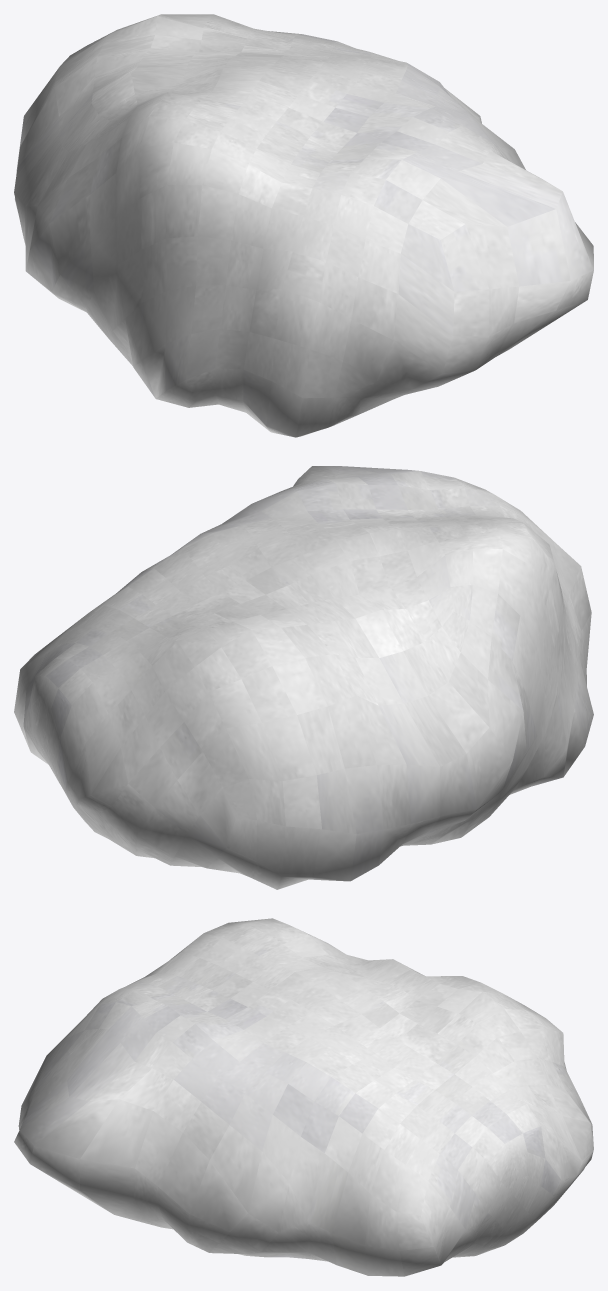
Rendered from MayCao.fbx.
3 renders of one model, top to bottom at view 1: azimuth 30°, elevation 25°; view 2: azimuth 150°, elevation 25°; view 3: azimuth 270°, elevation 25°, orthographic. The views are drawn at different scales.
Parts seen in each view (by area): view 1: MayCao; view 2: MayCao; view 3: MayCao.
Part boxes in pixels (x1,y1,x2,y2): MayCao: (14,14,593,437); MayCao: (14,466,593,889); MayCao: (14,918,593,1276).
Size of the model in its own units: 10.48 by 13.2 by 6.08.
Materials: 1 (1 with a texture image).
